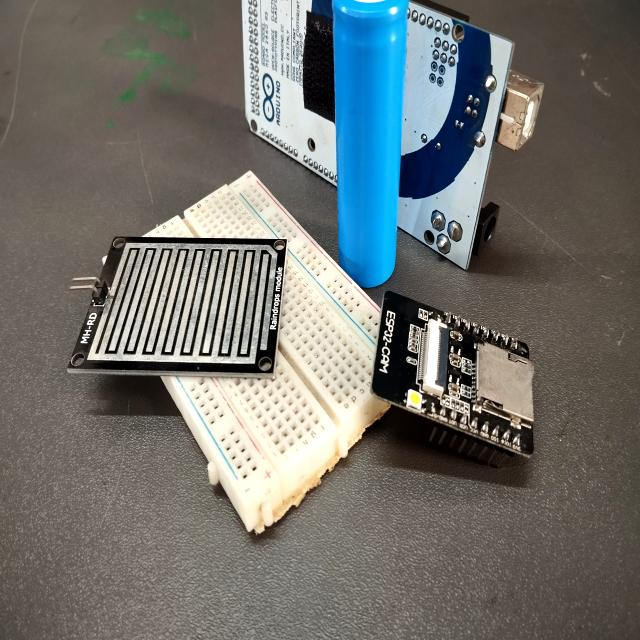3-3-Volt-Battery: (331, 0, 411, 291)
Arduino-Mega: (241, 0, 546, 278)
Breadboard: (100, 168, 394, 540)
ESP32-CAM: (368, 284, 539, 472)
Raindrops-Module: (64, 232, 293, 384)
